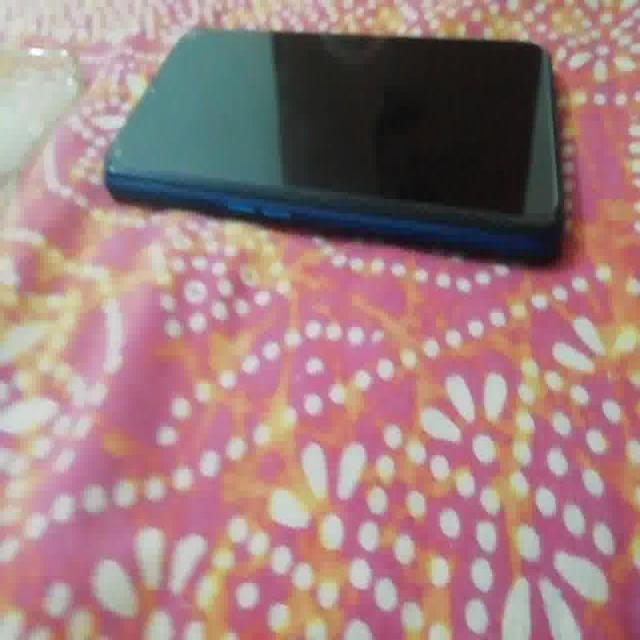Phone: (100, 27, 566, 266)
